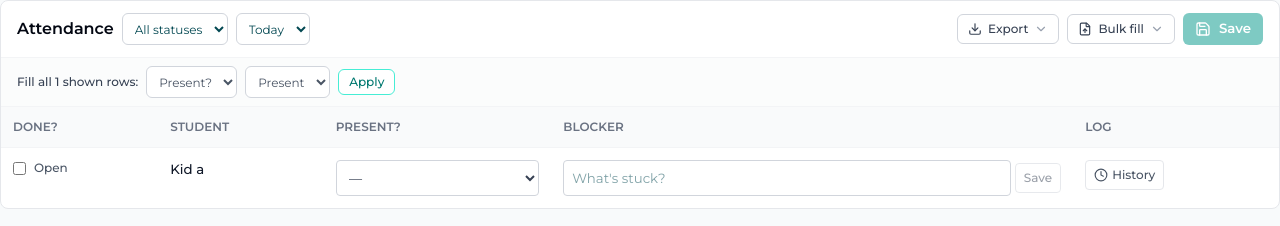
Test: review fixes › an earlier day offers no write controls at all (no blocker raise, no fill-all, no save)
Expected: the field with placeholder "What's stuck?" is shown, [563, 160, 1011, 196]
Focus the dropdown named "Period to view" at (273, 29), box [236, 13, 310, 45]
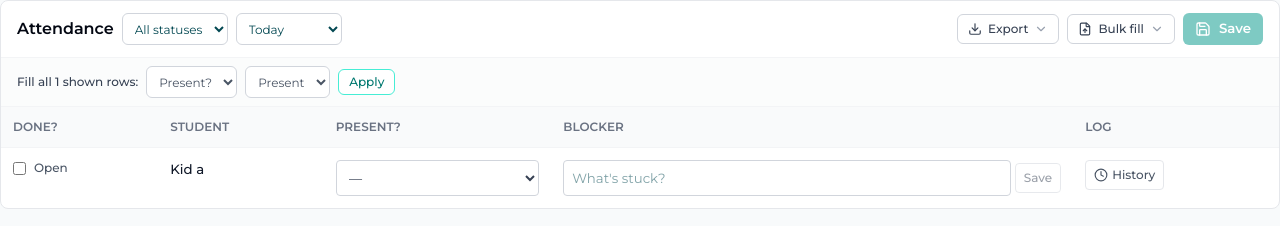
Select "2026-09-27" in the dropdown named "Period to view" at (289, 29), box [236, 13, 342, 45]
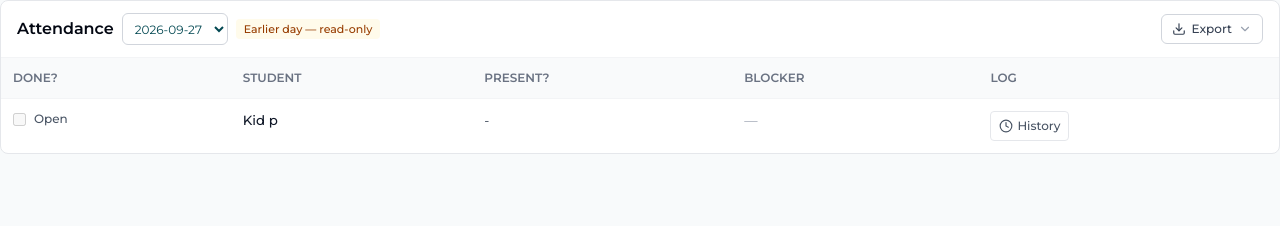
Expected: the text "Fill all" is gone
Expected: the button "Save" is gone
